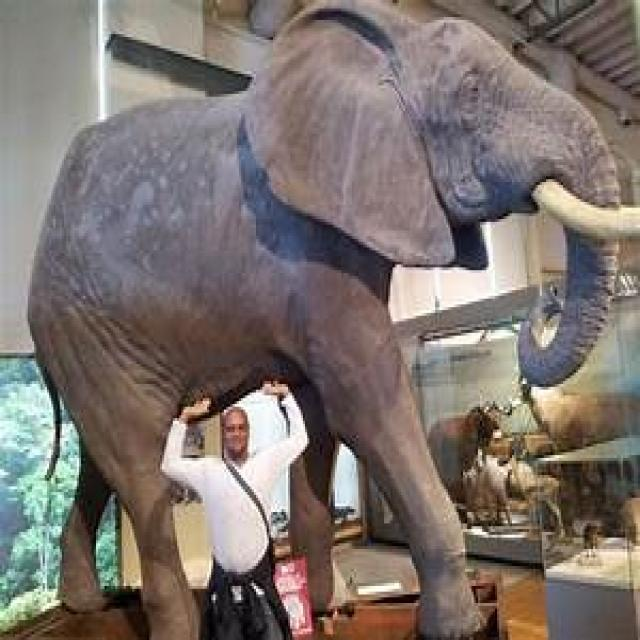elephant: (26, 0, 629, 640)
